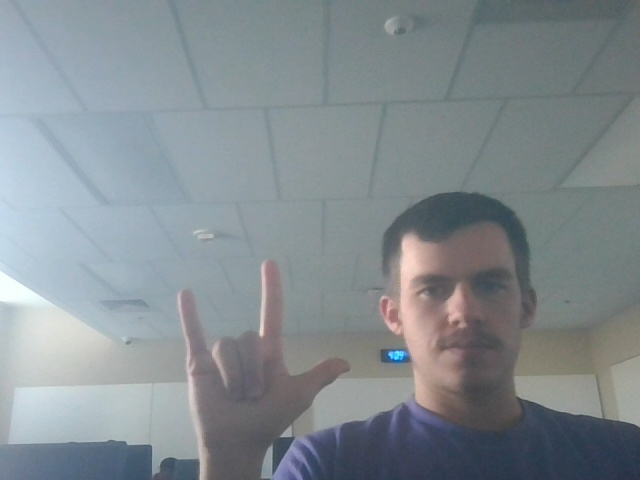iloveyou: (165, 246, 357, 442)
